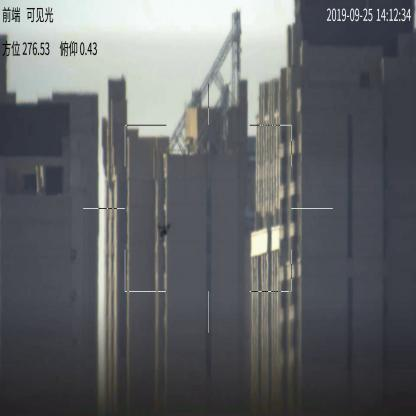uav: (156, 220, 172, 245)
